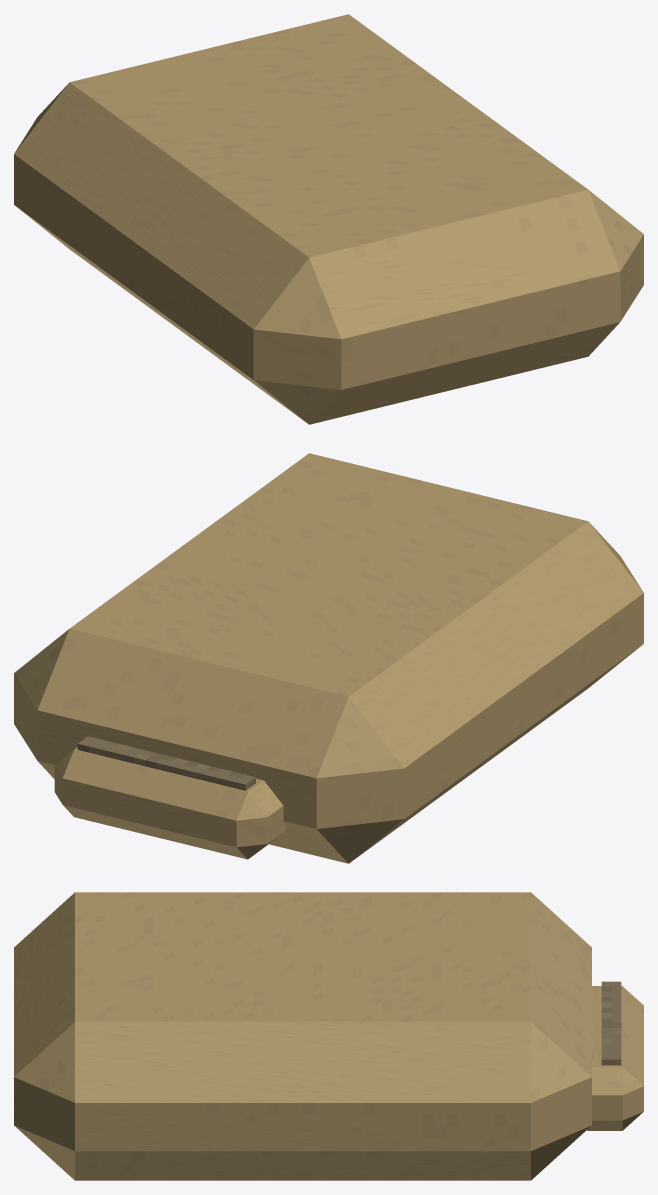
File: bag_paper_powder_bulk.glb
3 views of the same model, one above another, from view 1: azimuth 30°, elevation 25°; view 2: azimuth 150°, elevation 25°; view 3: azimuth 270°, elevation 25° (orthographic). The views are drawn at different scales.
Visible parts, largest first — view 1: block_sack body; view 2: block_sack body, block_gathered opening, block_closure tie; view 3: block_sack body, block_gathered opening, block_closure tie.
Part boxes in pixels (x1,y1,x2,y2): block_sack body: [14, 14, 643, 424]; block_sack body: [14, 453, 643, 863]; block_gathered opening: [54, 747, 285, 859]; block_closure tie: [77, 736, 255, 790]; block_sack body: [14, 892, 591, 1180]; block_gathered opening: [587, 986, 643, 1130]; block_closure tie: [601, 981, 621, 1065].
Size of the model in its own units: 0.0482 by 0.0197 by 0.0709.
Materials: 1 (1 with a texture image).
